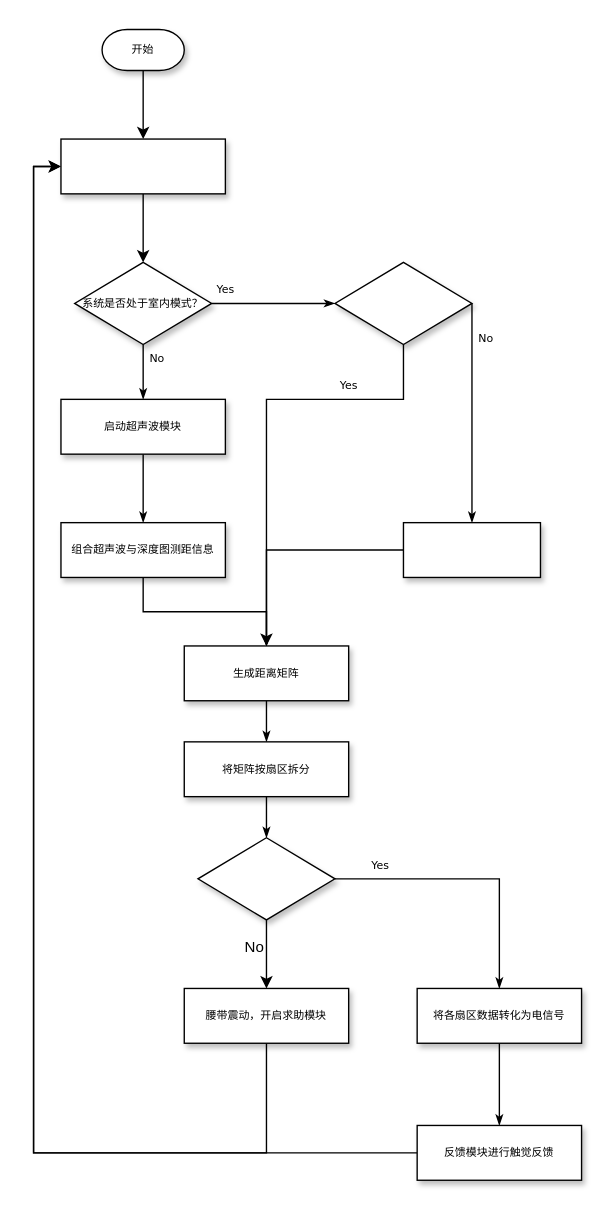
Some shapes in this 614 by 1214 pixel diagram are drawn without their labels. The shapes that lost their labels are listed below. From the top down, each one's centre as x and y in pixels, then its label:
the point at 144,167: 拍摄并生成深度图
the point at 404,305: 深度图是否有效
the point at 473,551: 进行填充处理
the point at 267,880: 矩阵是否有效
